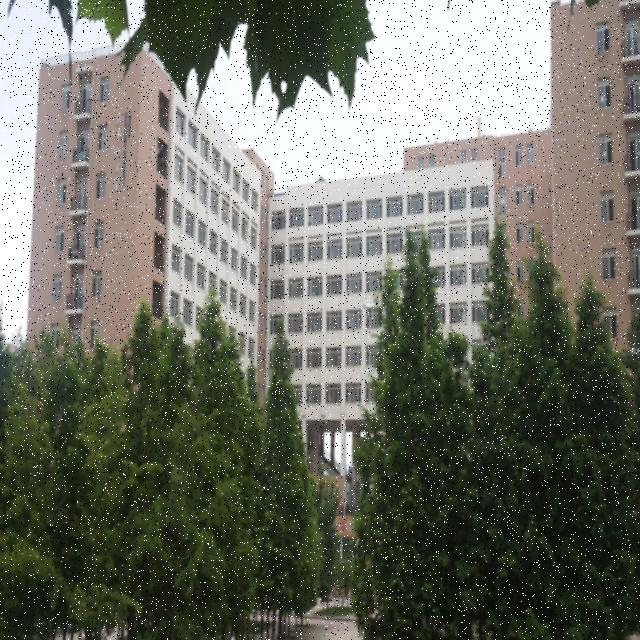UAV: (358, 302, 382, 318)
